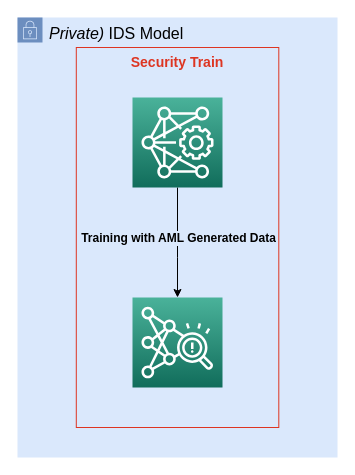
Some shapes in this 355 by 475 pixel diagram are drawn without their labels. Here are the shapes that lost their labels. From the top down, the box of each, then its label:
(132, 96, 222, 188): GAN
(132, 296, 222, 388): IDS ML
